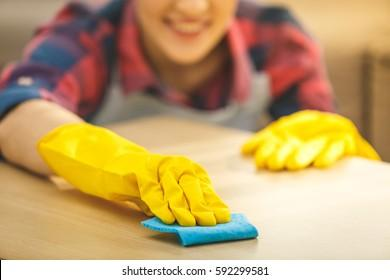gloves: (37, 120, 232, 224), (238, 108, 384, 173)
